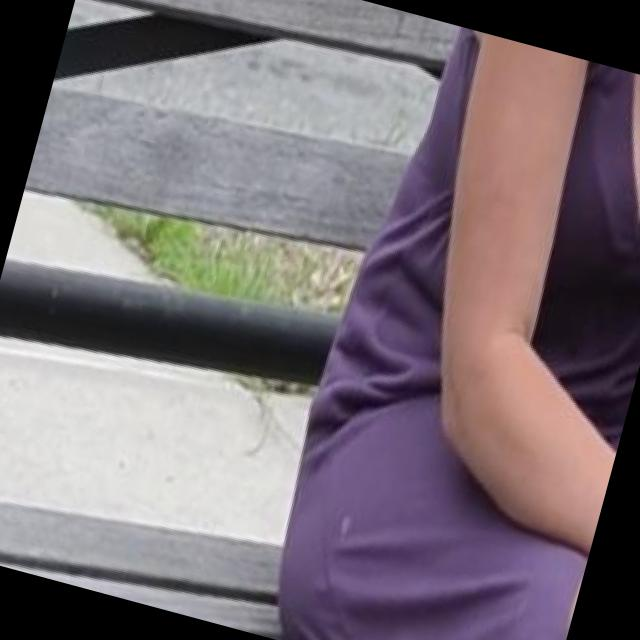Guns: (613, 76, 640, 223)
